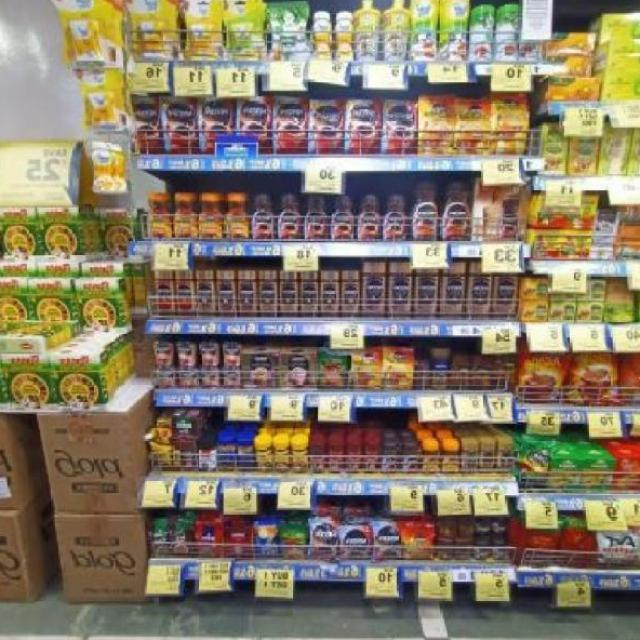Coffee: (492, 93, 528, 155), (419, 96, 454, 155), (163, 97, 198, 155), (455, 98, 490, 155), (199, 98, 234, 154), (235, 98, 270, 154), (346, 102, 382, 154), (383, 101, 417, 155), (131, 97, 162, 155), (410, 183, 439, 242), (309, 103, 343, 152), (442, 182, 470, 240), (275, 101, 306, 152), (440, 263, 465, 319), (492, 264, 517, 319), (362, 263, 387, 317), (466, 263, 490, 318), (388, 263, 411, 318), (350, 348, 381, 388), (381, 349, 412, 389), (414, 269, 438, 318), (276, 192, 301, 238), (252, 192, 276, 239), (303, 194, 328, 239), (198, 194, 223, 238), (146, 194, 171, 238), (225, 194, 250, 238), (330, 195, 355, 239), (356, 196, 381, 240), (310, 522, 339, 559), (341, 526, 372, 560), (383, 196, 406, 240), (173, 195, 196, 238), (375, 524, 402, 559), (217, 271, 237, 318), (404, 524, 431, 558), (238, 270, 257, 318), (299, 271, 318, 317), (259, 271, 278, 316), (321, 271, 339, 318), (197, 271, 215, 317), (342, 271, 359, 317), (280, 272, 297, 317), (441, 445, 461, 474), (382, 445, 400, 475), (402, 443, 419, 473), (423, 445, 440, 474), (462, 445, 478, 475), (497, 442, 512, 473), (479, 443, 495, 472), (492, 518, 508, 534), (494, 544, 509, 561), (474, 545, 491, 560), (477, 520, 490, 535)
